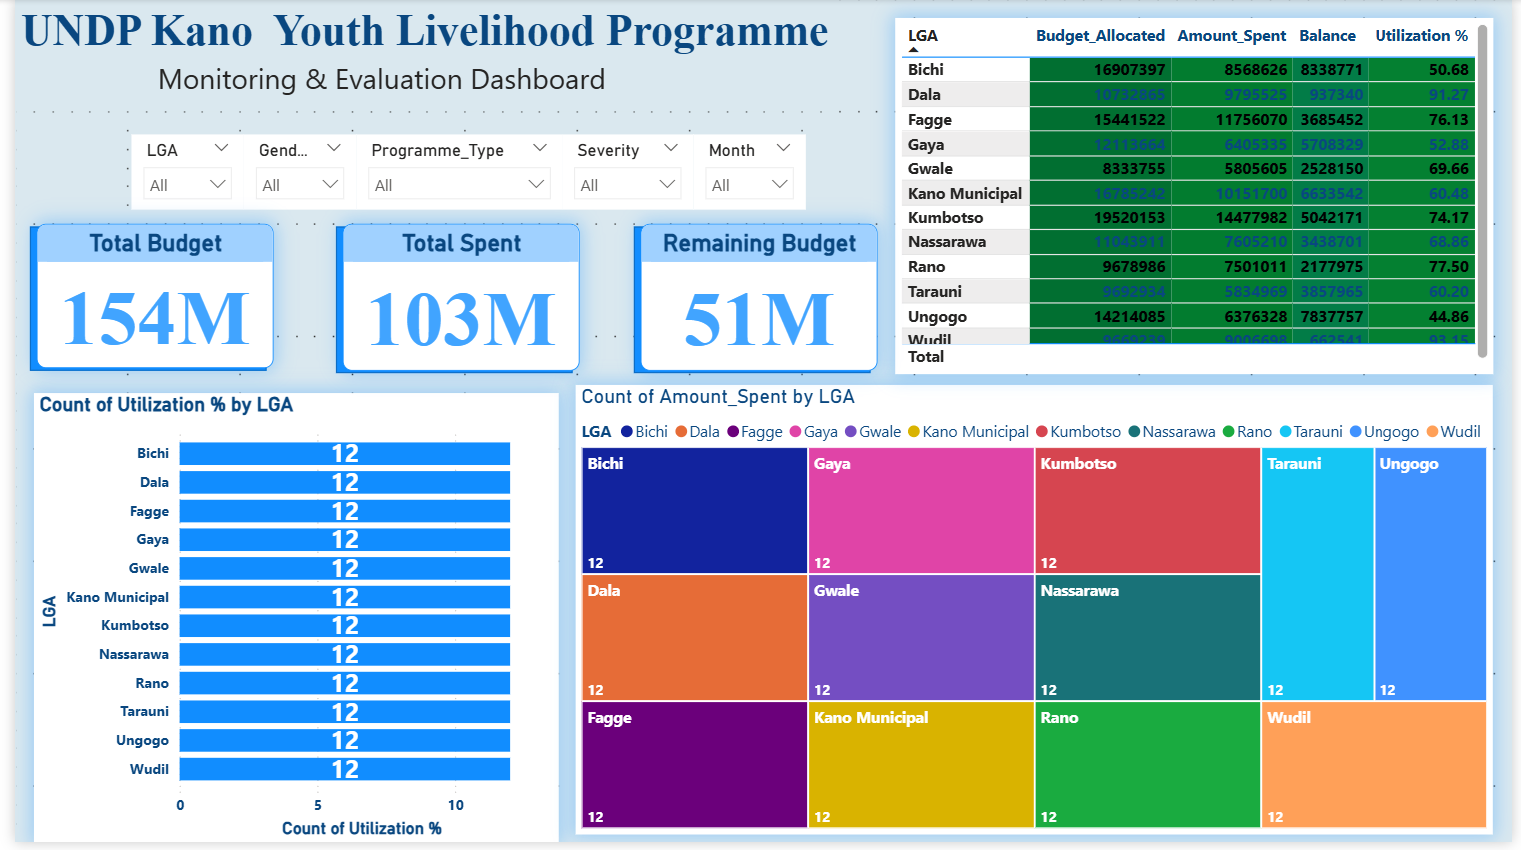

This screenshot's page, from the dashboard's own definition file:
{"tool":"powerbi","page":{"name":"Budget Monitoring","canvas":[1280,720],"ordinal":2},"visuals":[{"type":"shape","box":[274.5,194.8,202.1,125.2],"z":0,"group":"g2"},{"type":"clusteredBarChart","fields":{"Category":["Beneficiaries.LGA"],"Y":["CountNonNull(Budget_Tracker.Utilization %)"]},"box":[16,336,448,384],"z":0},{"type":"shape","box":[528,194.8,202.1,125.2],"z":1000,"group":"g1"},{"type":"treemap","fields":{"Group":["Beneficiaries.LGA"],"Values":["CountNonNull(Budget_Tracker.Amount_Spent)"]},"box":[479.4,329.5,784,384],"z":1000},{"type":"tableEx","fields":{"Values":["Beneficiaries.LGA","Budget_Tracker.Budget_Allocated","Budget_Tracker.Amount_Spent","Budget_Tracker.Balance","Budget_Tracker.Utilization %"]},"box":[752,16,512,304],"z":2000},{"type":"shape","box":[12.3,194.7,202.1,123.3],"z":2000,"group":"g3"},{"type":"textbox","box":[0,0,704,96],"z":3000},{"type":"card","title":"Total Budget","fields":{"Values":["Beneficiaries.Total Budget"]},"box":[18.2,192,202.1,123.3],"z":3000,"group":"g3"},{"type":"card","title":"Total Spent","fields":{"Values":["Beneficiaries.Total Spent"]},"box":[280.4,192,202.1,125.2],"z":4000,"group":"g2"},{"type":"group","id":"g1","title":"Group 1","box":[528,192,208,128],"z":4000},{"type":"group","id":"g2","title":"Group 2","box":[274.5,192,208,128],"z":5000},{"type":"card","title":"Remaining Budget","fields":{"Values":["Beneficiaries.Remaining Budget"]},"box":[533.9,192,202.1,125.2],"z":5000,"group":"g1"},{"type":"slicer","fields":{"Values":["Beneficiaries.LGA"]},"box":[99,116.2,96,64],"z":6000},{"type":"slicer","fields":{"Values":["Beneficiaries.Gender"]},"box":[195,116.2,96,64],"z":7000},{"type":"slicer","fields":{"Values":["Beneficiaries.Programme_Type"]},"box":[291,116.2,176,64],"z":8000},{"type":"slicer","fields":{"Values":["Risk_Register.Column3"]},"box":[467,116.2,112,64],"z":9000},{"type":"slicer","fields":{"Values":["Beneficiaries.Month"]},"box":[579,116.2,96,64],"z":10000},{"type":"group","id":"g3","title":"Group 3","box":[12.3,192,208,112],"z":11000}]}

Visuals, with their boxes in screenshot pixels (x1, y1, x2, y2), scaled from the page's 1280x720 canvas onto the 1521x850 screenshot:
shape: locate(326, 230, 566, 378)
clusteredBarChart - Beneficiaries.LGA x CountNonNull(Budget_Tracker.Utilization %): locate(19, 397, 551, 849)
shape: locate(627, 230, 868, 378)
treemap - Beneficiaries.LGA x CountNonNull(Budget_Tracker.Amount_Spent): locate(570, 389, 1501, 842)
tableEx - Beneficiaries.LGA x Budget_Tracker.Budget_Allocated: locate(894, 19, 1502, 378)
shape: locate(15, 230, 255, 375)
textbox: locate(0, 0, 837, 113)
"Total Budget" card: locate(22, 227, 262, 372)
"Total Spent" card: locate(333, 227, 573, 374)
"Group 1" group: locate(627, 227, 875, 378)
"Group 2" group: locate(326, 227, 573, 378)
"Remaining Budget" card: locate(634, 227, 875, 374)
slicer - Beneficiaries.LGA: locate(118, 137, 232, 213)
slicer - Beneficiaries.Gender: locate(232, 137, 346, 213)
slicer - Beneficiaries.Programme_Type: locate(346, 137, 555, 213)
slicer - Risk_Register.Column3: locate(555, 137, 688, 213)
slicer - Beneficiaries.Month: locate(688, 137, 802, 213)
"Group 3" group: locate(15, 227, 262, 359)
